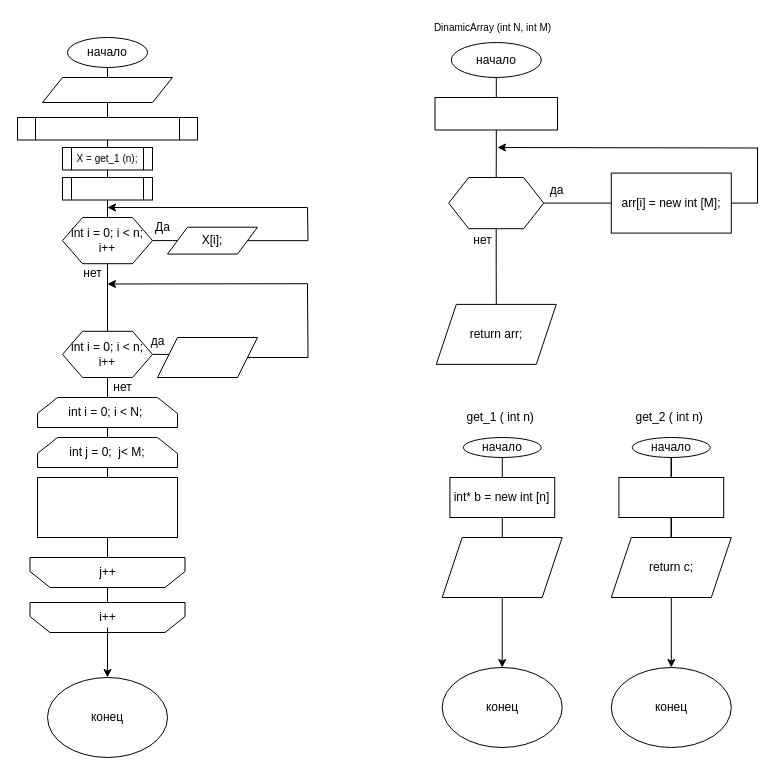
Some shapes in this 783 by 775 pixel diagram are drawn without their labels. Each missing label, with the box of its shape:
barray = DinamicArray ( N, M);: (16, 116, 198, 140)
barray[i][j]= X[i]*Y[j]; cout<<barray[i][j]<<"\t";: (36, 476, 178, 538)
int **arr = new int*[N];: (434, 96, 558, 130)
int i = 0; i < N ; i++: (448, 176, 544, 229)
int* c = new int [n]: (618, 476, 724, 518)
N,M,n,X,Y,barray: (42, 76, 172, 102)
return b;: (441, 536, 562, 598)
Y= get_2 (n);: (62, 176, 152, 200)
Y[i];: (156, 336, 258, 378)
